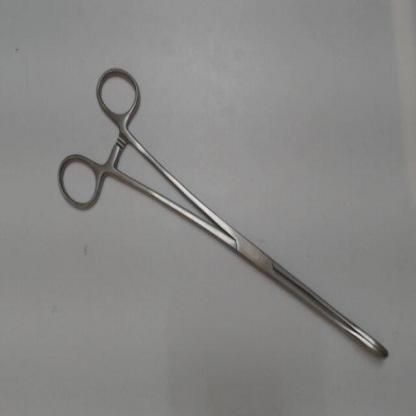Sponge Forceps: (52, 53, 398, 363)
